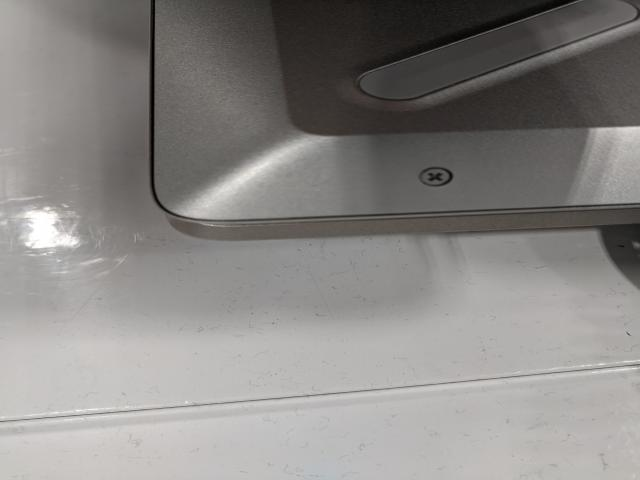CRS: (419, 167, 453, 186)
